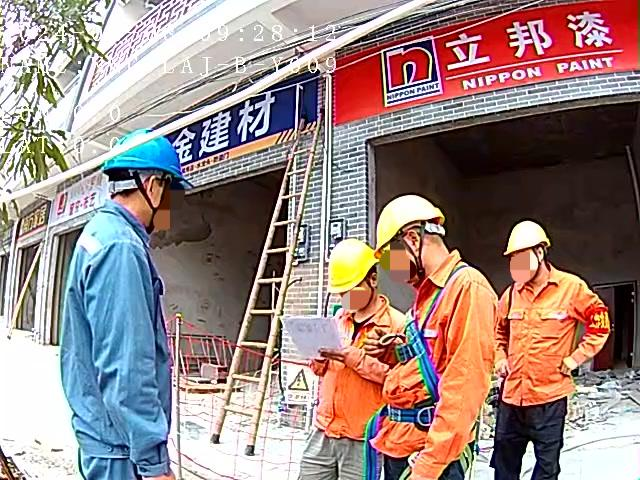halt: (105, 141, 187, 221), (378, 196, 452, 282), (331, 240, 384, 309), (505, 222, 556, 282)
inear: (137, 174, 175, 230), (404, 228, 431, 272), (364, 269, 383, 298), (533, 244, 550, 276)
